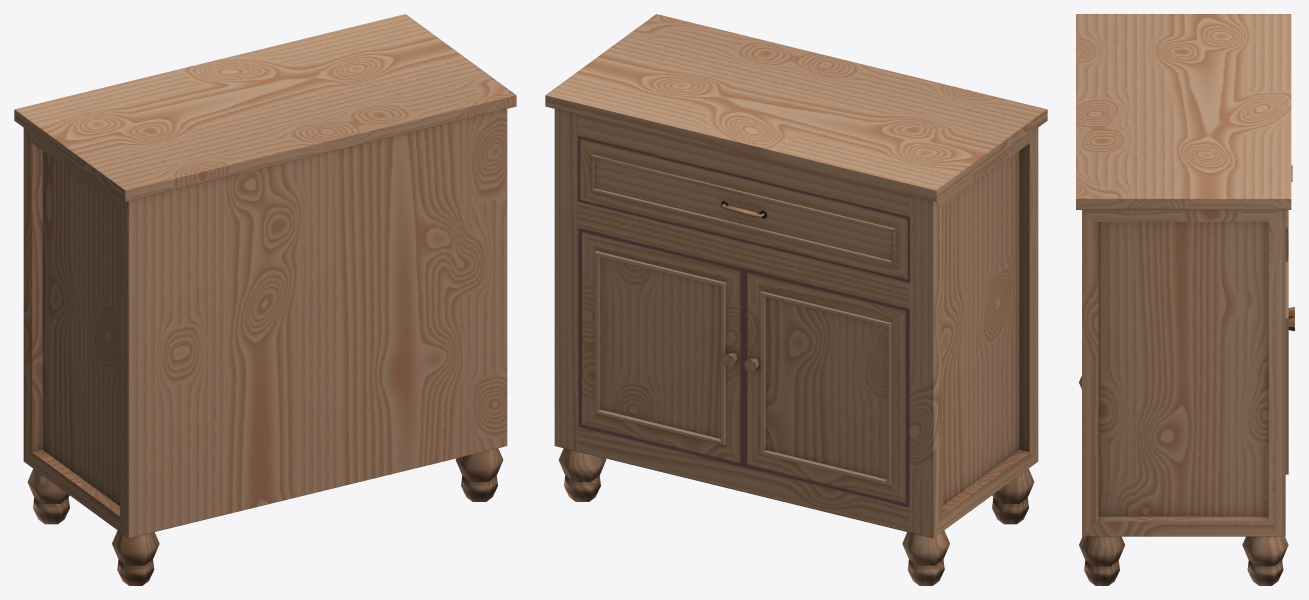
Rendered from FUR0210040.fbx.
3 renders of one model, left to right at view 1: azimuth 30°, elevation 25°; view 2: azimuth 150°, elevation 25°; view 3: azimuth 270°, elevation 25°, orthographic. The views are drawn at different scales.
Visible parts, largest first — view 1: smFUR0210040; view 2: smFUR0210040; view 3: smFUR0210040.
Part boxes in pixels (left/top/right/bottom): smFUR0210040: left=14, top=14, right=516, bottom=585; smFUR0210040: left=545, top=14, right=1047, bottom=585; smFUR0210040: left=1076, top=14, right=1294, bottom=585.
Size of the model in its own units: 99.83 by 99 by 49.87.
1 material, 1 textured.
